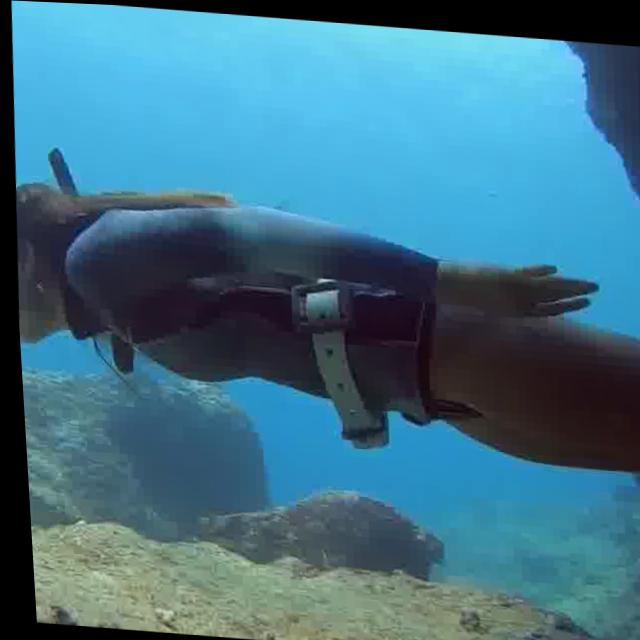human: (6, 132, 640, 499)
